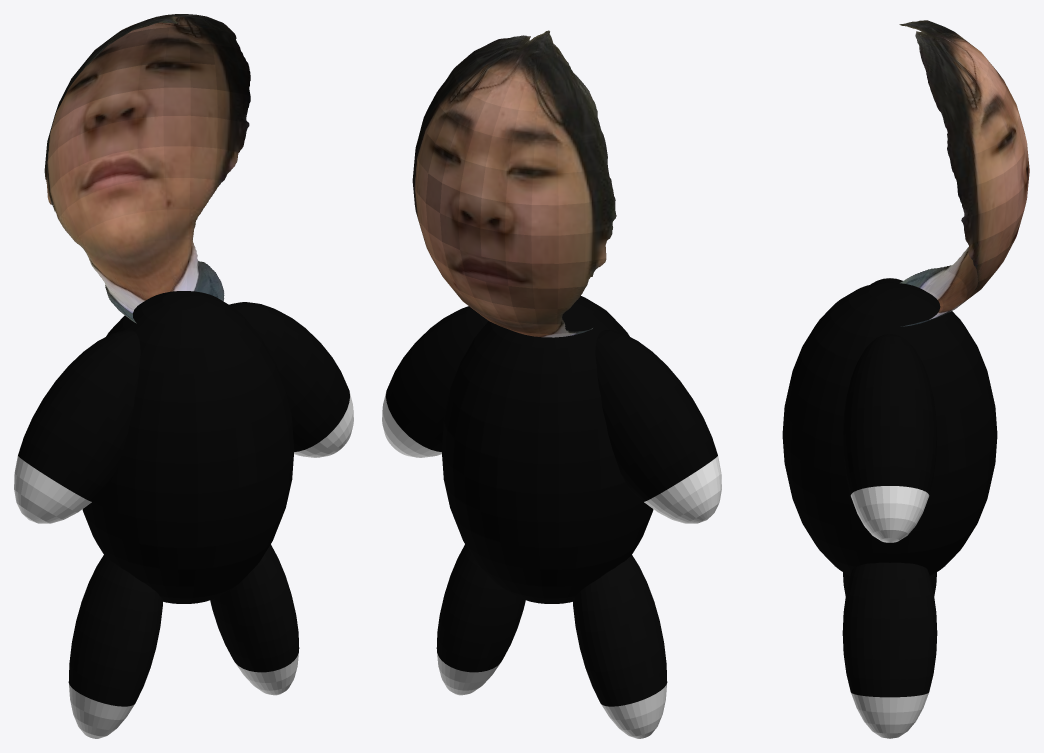
The model's file is BokiePorkie.fbx.
The picture shows the model from 3 angles, left to right: view 1: azimuth 30°, elevation 25°; view 2: azimuth 150°, elevation 25°; view 3: azimuth 270°, elevation 25°; orthographic projection. The views are drawn at different scales.
Parts seen in each view (by area): view 1: Head.001, Head, Head.002, Head.004, Head.003, Head.005; view 2: Head, Head.001, Head.002, Head.004, Head.003, Head.005; view 3: Head.001, Head, Head.003, Head.005.
Boxes of the visible parts, x1,y1,x2,y2 form: Head.001: (82, 291, 294, 603); Head: (44, 14, 250, 323); Head.002: (14, 330, 140, 523); Head.004: (68, 555, 162, 738); Head.003: (229, 302, 353, 457); Head.005: (210, 544, 299, 695); Head: (412, 30, 616, 337); Head.001: (441, 296, 653, 603); Head.002: (595, 330, 721, 523); Head.004: (573, 555, 667, 738); Head.003: (382, 306, 488, 457); Head.005: (436, 544, 525, 695); Head.001: (782, 282, 997, 575); Head: (899, 20, 1029, 326); Head.003: (842, 334, 937, 542); Head.005: (842, 562, 937, 738).
Bounding box in the file's own units: 347 × 688 × 260.
Materials: 6 (1 with a texture image).
